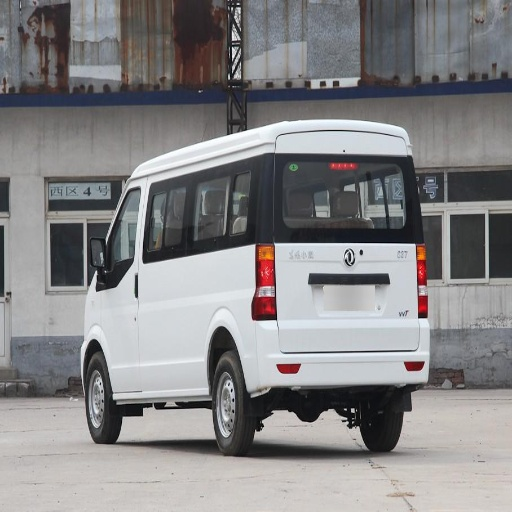back_bumper: (258, 336, 429, 386)
back_glass: (275, 154, 386, 225), (196, 159, 265, 228)
back_left_light: (252, 241, 276, 319)
back_right_door: (191, 190, 221, 240)
trunk: (166, 243, 417, 387)
